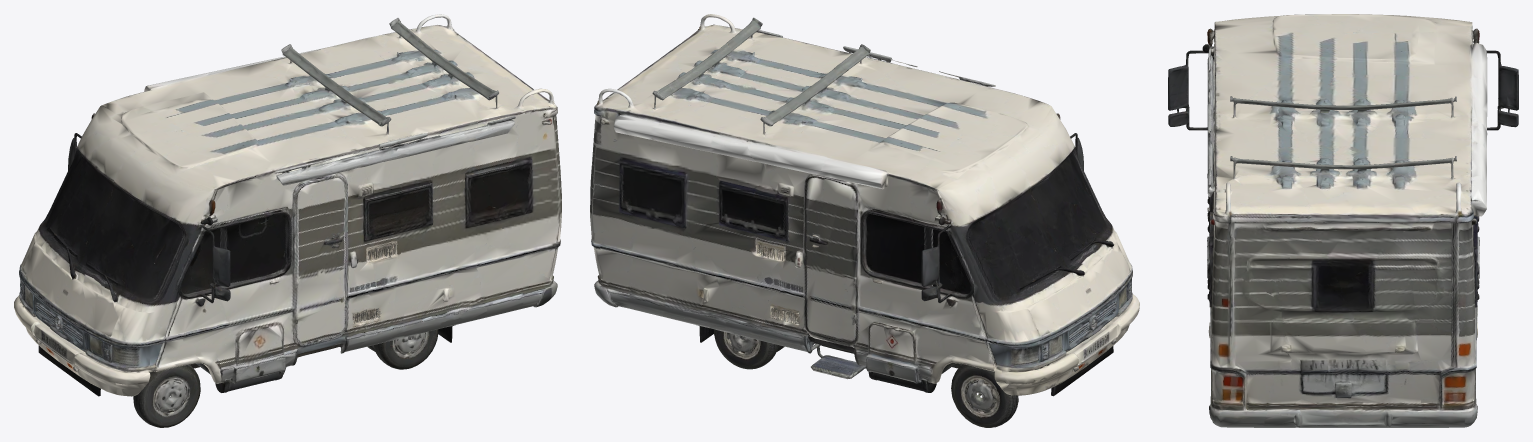
The model's file is motorhome-SHRINK.glb.
3 views of the same model, side by side, from view 1: azimuth 30°, elevation 25°; view 2: azimuth 150°, elevation 25°; view 3: azimuth 270°, elevation 25° (orthographic). The views are drawn at different scales.
Visible parts, largest first — view 1: object 1, Wheel_FL, Wheel_RL; view 2: object 1, Wheel_FR, Wheel_RR; view 3: object 1.
Part boxes in pixels (<box>): object 1: <box>14,14,561,396</box>; Wheel_FL: <box>133,364,200,427</box>; Wheel_RL: <box>367,329,438,369</box>; object 1: <box>590,14,1139,396</box>; Wheel_FR: <box>951,364,1018,427</box>; Wheel_RR: <box>714,329,784,369</box>; object 1: <box>1168,14,1518,427</box>.
Bounding box in the file's own units: 1.9 × 1.03 × 1.12.
1 material, 1 textured.
